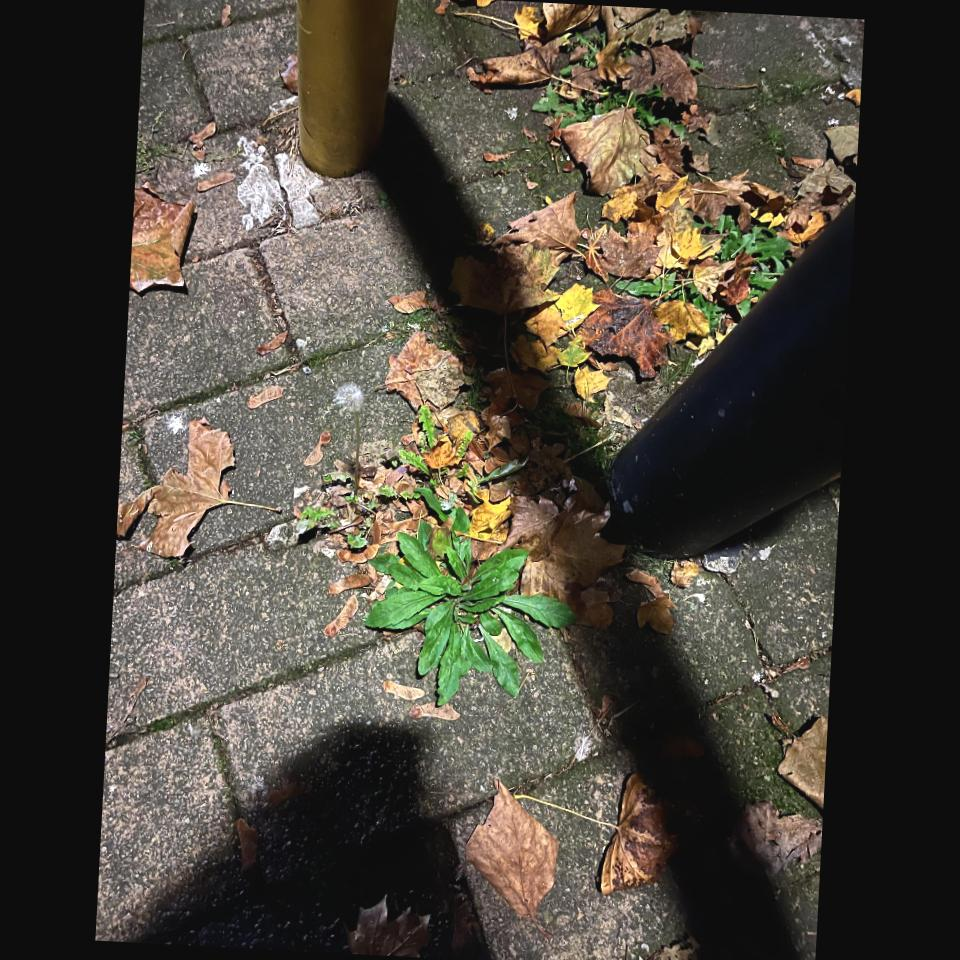weed: (352, 518, 590, 694), (362, 405, 477, 510), (512, 82, 695, 137), (697, 214, 802, 290), (620, 261, 736, 323)
